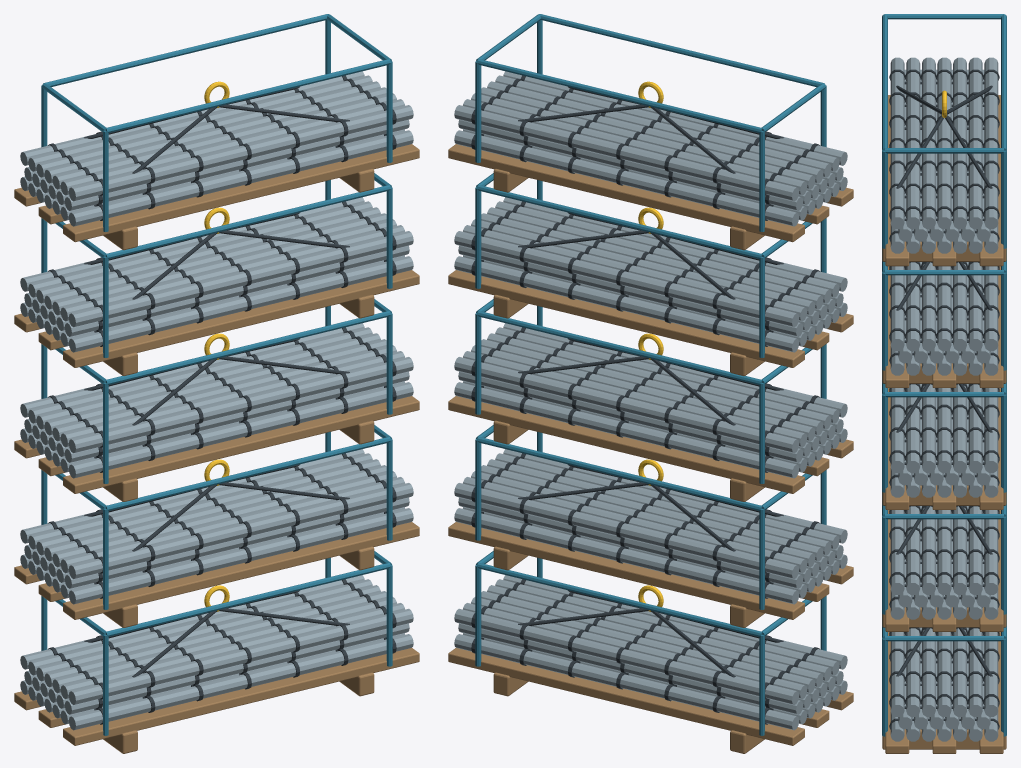
Rendered from rebar-bundle.glb.
3 views of the same model, side by side, from view 1: azimuth 30°, elevation 25°; view 2: azimuth 150°, elevation 25°; view 3: azimuth 270°, elevation 25° (orthographic). The views are drawn at different scales.
Visible parts, largest first — view 1: PalletDeck.003, PalletDeck, PalletDeck.006, PalletDeck.012, PalletDeck.009, Rebar.060, Rebar.080, Rebar, Rebar.040, Rebar.020, Rebar.013, Rebar.073 (+54 smaller); view 2: PalletDeck.005, PalletDeck.002, PalletDeck.008, PalletDeck.014, PalletDeck.011, Rebar.066, Rebar.086, Rebar.006, Rebar.046, Rebar.026, Rebar.019, Rebar.079 (+54 smaller); view 3: Rebar.093, Rebar.099, Rebar.094, Rebar.098, Rebar.096, Rebar.095, Rebar.097, Rebar.056, Rebar.076, Rebar.036, Rebar.016, Rebar.053 (+103 smaller).
Part boxes in pixels (left/top/right/bottom): PalletDeck.003: left=63, top=522, right=419, bottom=619; PalletDeck: left=63, top=648, right=419, bottom=745; PalletDeck.006: left=63, top=396, right=419, bottom=493; PalletDeck.012: left=63, top=144, right=419, bottom=242; PalletDeck.009: left=63, top=270, right=419, bottom=367; Rebar.060: left=68, top=256, right=413, bottom=352; Rebar.080: left=68, top=130, right=413, bottom=226; Rebar: left=68, top=634, right=413, bottom=730; Rebar.040: left=68, top=382, right=413, bottom=478; Rebar.020: left=68, top=508, right=413, bottom=604; Rebar.013: left=68, top=608, right=413, bottom=704; Rebar.073: left=68, top=231, right=413, bottom=327; PalletDeck.005: left=448, top=522, right=804, bottom=619; PalletDeck.002: left=448, top=648, right=804, bottom=745; PalletDeck.008: left=448, top=396, right=804, bottom=493; PalletDeck.014: left=448, top=144, right=804, bottom=242; PalletDeck.011: left=448, top=270, right=804, bottom=367; Rebar.066: left=454, top=256, right=799, bottom=352; Rebar.086: left=454, top=130, right=799, bottom=226; Rebar.006: left=454, top=634, right=799, bottom=730; Rebar.046: left=454, top=382, right=799, bottom=478; Rebar.026: left=454, top=508, right=799, bottom=604; Rebar.019: left=454, top=608, right=799, bottom=704; Rebar.079: left=454, top=231, right=799, bottom=327; Rebar.093: left=890, top=57, right=904, bottom=229; Rebar.099: left=984, top=57, right=998, bottom=229; Rebar.094: left=906, top=57, right=920, bottom=229; Rebar.098: left=968, top=57, right=982, bottom=229; Rebar.096: left=937, top=57, right=951, bottom=229; Rebar.095: left=922, top=57, right=935, bottom=229; Rebar.097: left=953, top=57, right=966, bottom=229; Rebar.056: left=937, top=388, right=951, bottom=473; Rebar.076: left=937, top=266, right=951, bottom=351; Rebar.036: left=937, top=510, right=951, bottom=594; Rebar.016: left=937, top=632, right=951, bottom=716; Rebar.053: left=890, top=388, right=904, bottom=473.
Size of the model in its own units: 3.58 by 6.24 by 1.16.
